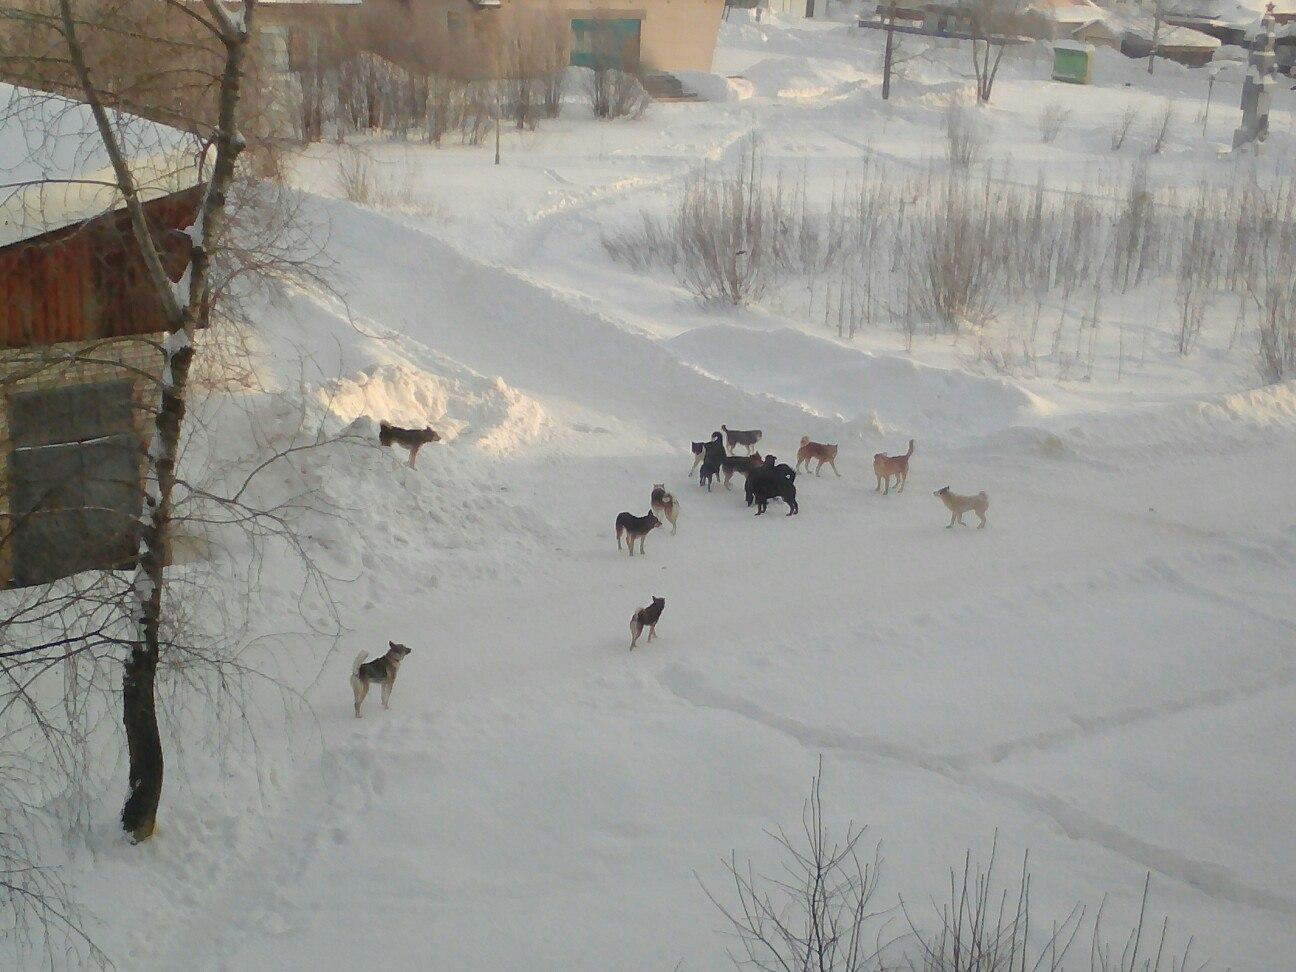normal_dogs: (349, 637, 415, 717), (379, 419, 443, 473), (936, 484, 991, 539), (871, 439, 920, 498), (628, 590, 670, 651), (615, 508, 664, 558), (755, 468, 802, 520), (797, 436, 841, 480), (649, 482, 683, 537), (689, 429, 726, 476), (720, 452, 764, 491), (720, 422, 764, 455)
